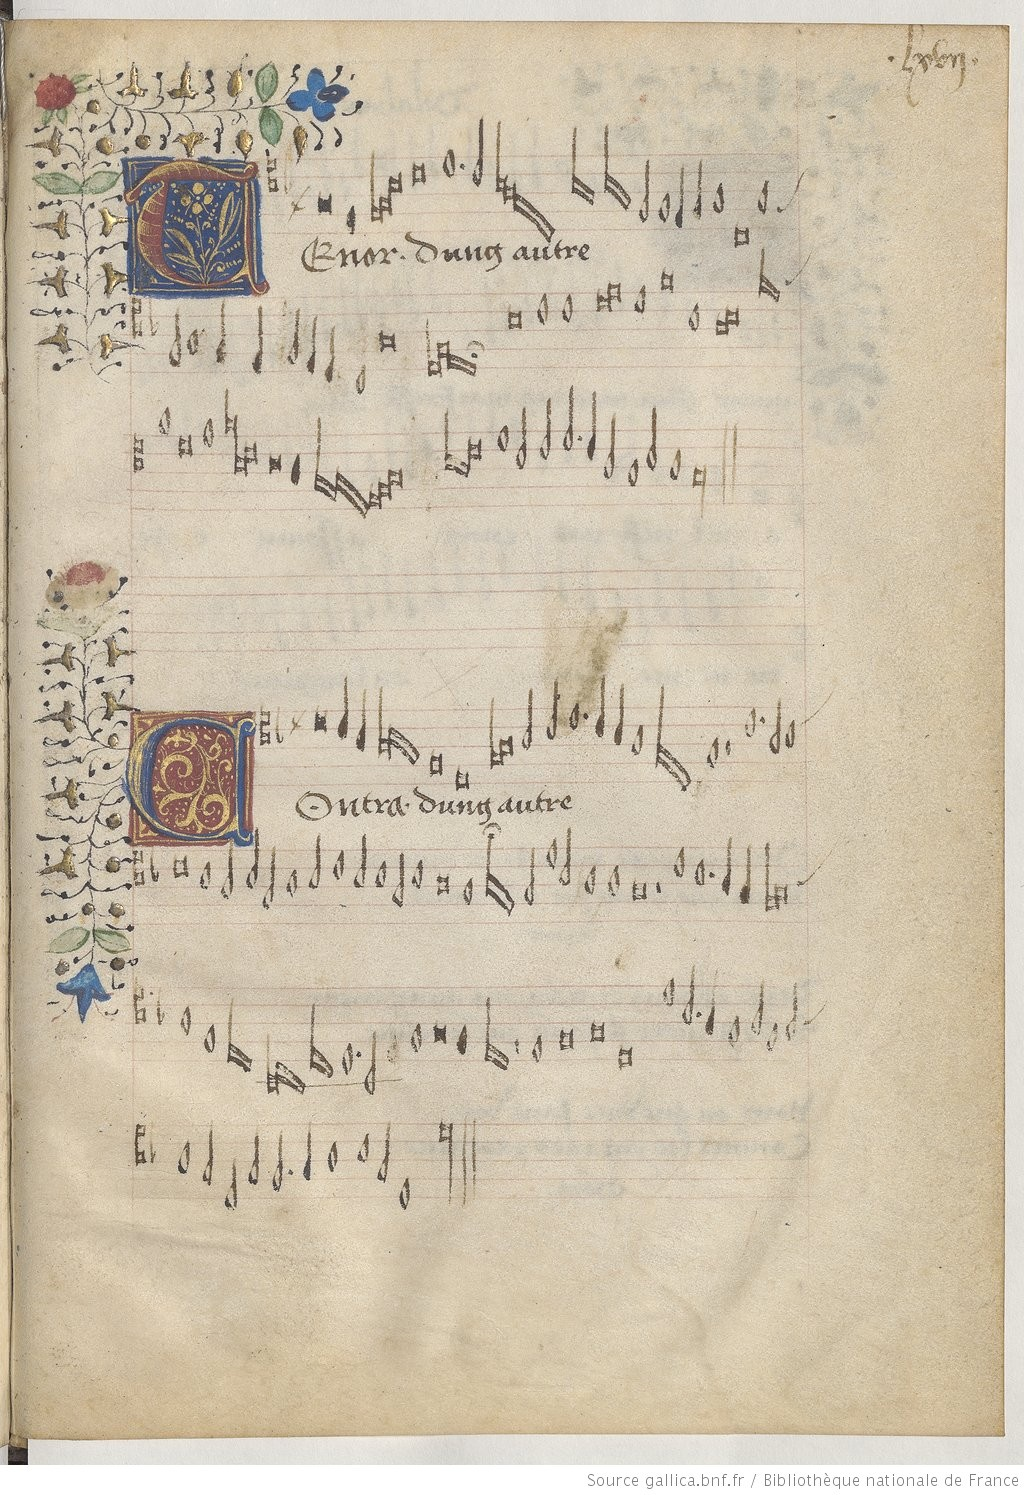breve_11: (611, 1045, 635, 1069)
breve_8: (586, 1019, 609, 1043)
breve_9: (551, 1022, 580, 1060)
c clef_5: (130, 980, 149, 1032)
colored breve_8: (428, 1024, 451, 1049)
colored semibreve_9: (451, 1019, 475, 1063)
custos_7: (799, 975, 836, 1047)
flat_6: (151, 979, 173, 1037)
l1semibreve_13: (260, 1030, 277, 1099)
minim_13: (363, 1029, 380, 1099)
minim_6: (678, 963, 698, 1032)
minim_7: (748, 977, 764, 1041)
minim_8: (783, 979, 799, 1043)
o1semibreve_10: (223, 1000, 239, 1077), (482, 999, 496, 1076)
o1semibreve_11: (303, 1000, 320, 1085)
o2breve_13: (290, 1053, 308, 1096)
o2semibreve_11: (496, 999, 511, 1076)
o2semibreve_12: (320, 1000, 339, 1085), (239, 1000, 256, 1077), (273, 1053, 290, 1096)
point: (351, 1042, 366, 1064)
semibreve rest: (508, 988, 525, 1084)
semibreve_10: (528, 1027, 550, 1071)
semibreve_11: (338, 1032, 358, 1081)
semibreve_13: (289, 1059, 306, 1102)
semibreve_4: (656, 970, 680, 1014)
semibreve_7: (176, 1000, 197, 1044)
semibreve_8: (725, 1008, 747, 1053)
semibreve_9: (761, 1019, 784, 1064), (405, 1014, 427, 1059), (199, 1016, 220, 1061), (382, 1028, 405, 1070)
semiminim_7: (704, 972, 718, 1044)
